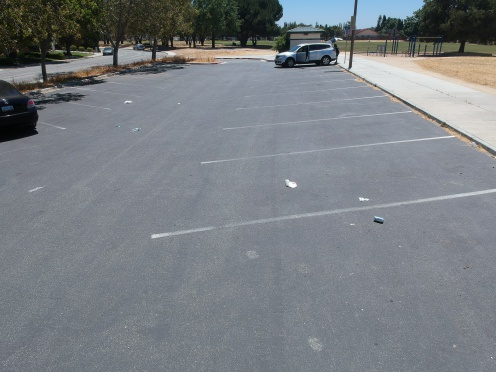bottle: (130, 124, 143, 133)
can: (369, 214, 388, 226)
plastic bag: (282, 176, 301, 191)
